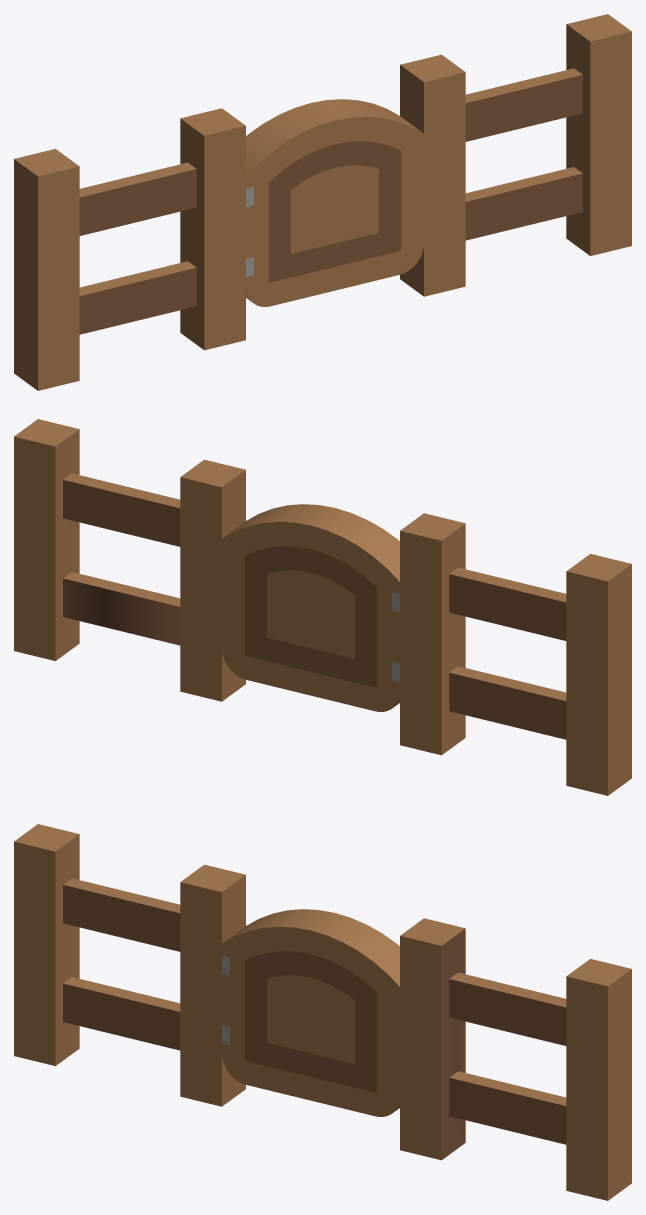
The model's file is fence_gate.glb.
The picture shows the model from 3 angles, top to bottom: view 1: azimuth 30°, elevation 25°; view 2: azimuth 150°, elevation 25°; view 3: azimuth 330°, elevation 25°; orthographic projection.
Parts seen in each view (by area): view 1: fence_gate; view 2: fence_gate; view 3: fence_gate.
Part boxes in pixels (x1,y1,x2,y2): fence_gate: [14, 14, 631, 390]; fence_gate: [14, 419, 631, 795]; fence_gate: [14, 824, 631, 1200].
Size of the model in its own units: 1 by 0.345 by 0.07.
